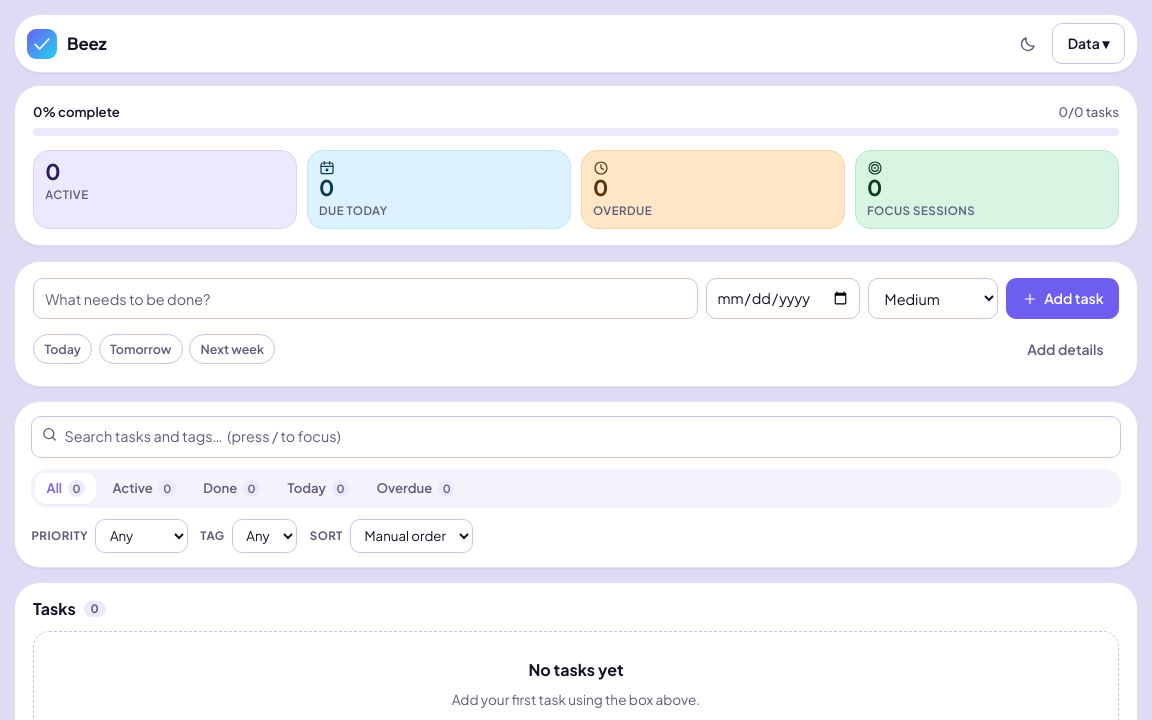
Test: App › shows a new task even when a status filter was already active
Click the tab "Done 0" at (232, 488), box [192,473,272,504]
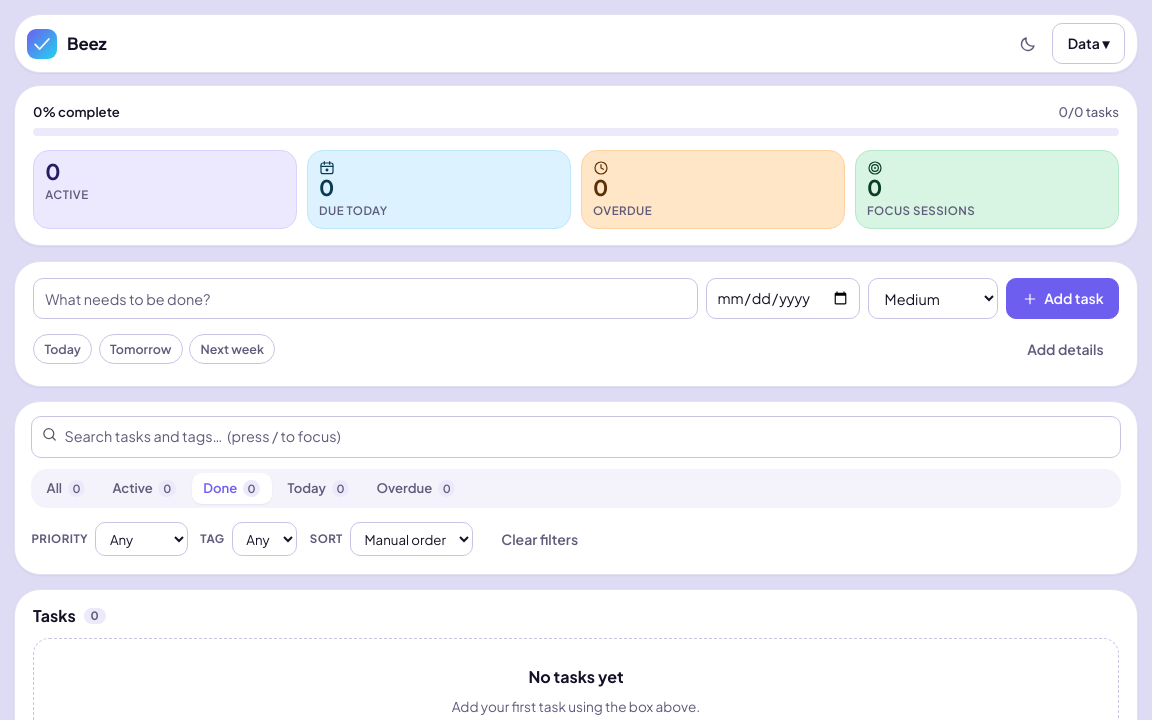
Type "Visible after filtering" into the field named "Task title" at (365, 299), box [33,278,698,319]
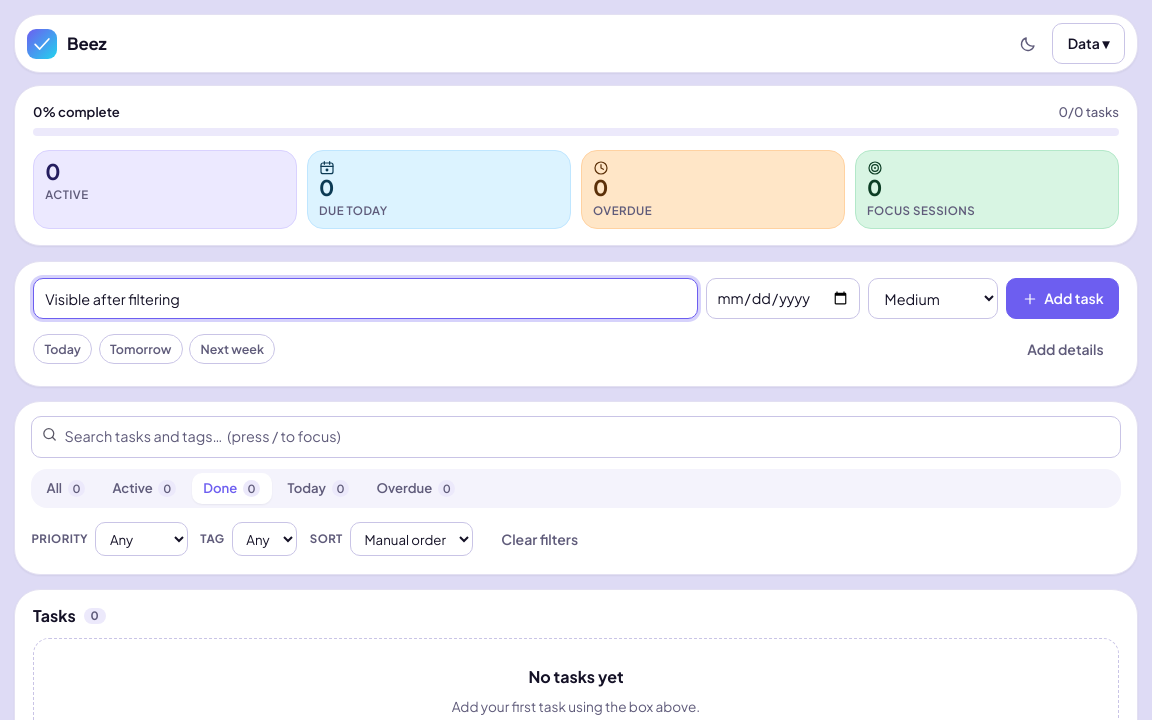
Click the button "Add task" at (1063, 299), box [1006,278,1119,319]
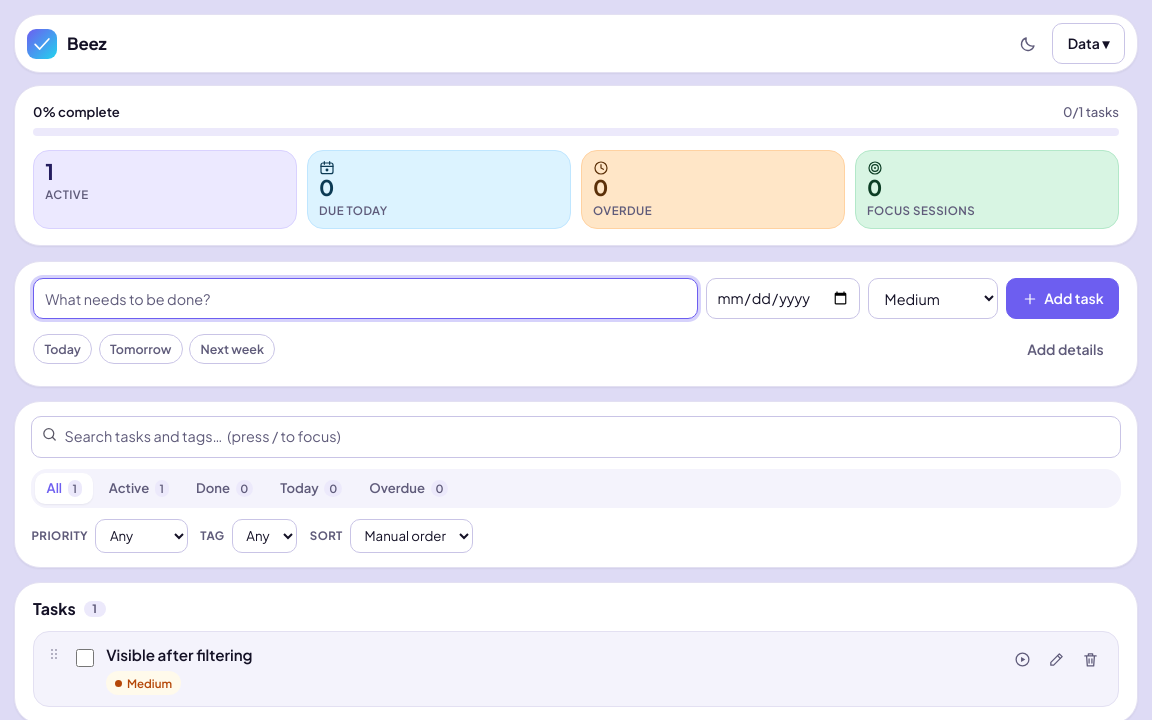
Check: the button "Visible after filtering" is shown, box [106,644,997,666]
